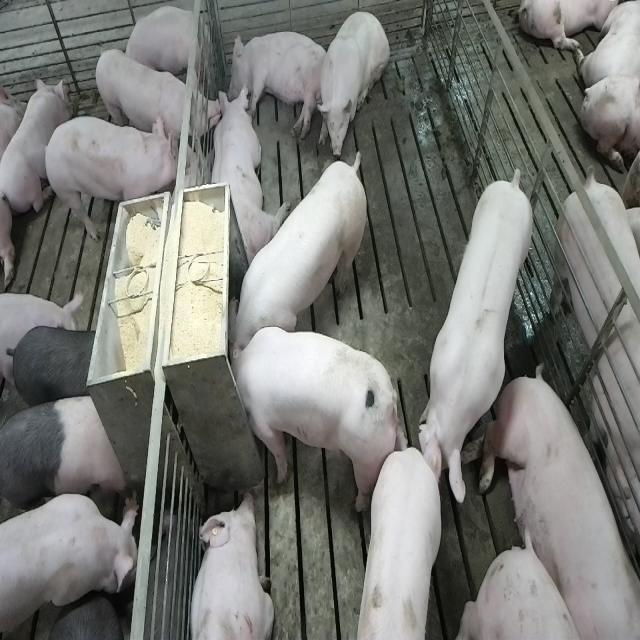Feeding: (220, 325, 397, 511), (230, 143, 372, 355)
Lateral_lying: (228, 30, 330, 140)
Sitting: (317, 8, 390, 160)
Standing: (416, 167, 536, 511), (547, 169, 640, 591), (1, 489, 140, 640), (40, 114, 176, 246), (351, 443, 439, 640), (2, 392, 128, 518), (5, 324, 106, 412)
Sternal_lying: (208, 85, 284, 268), (187, 490, 274, 640), (1, 74, 68, 220)
